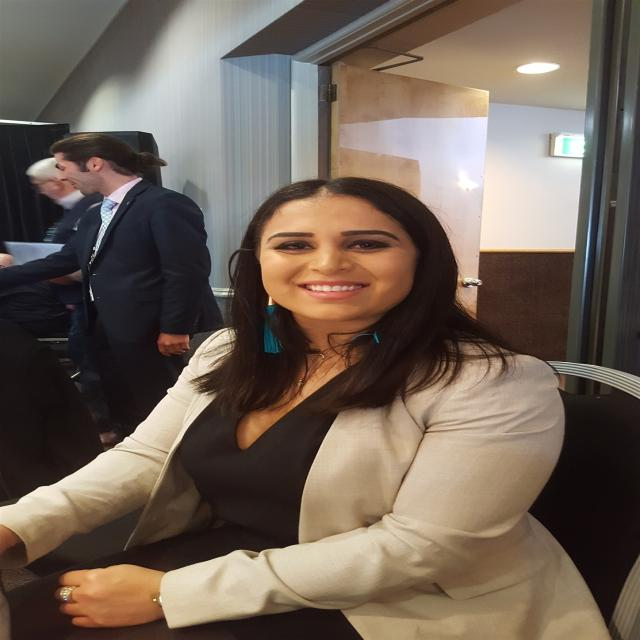body: (0, 176, 616, 640), (1, 131, 230, 442), (0, 228, 91, 494), (23, 156, 108, 367)
